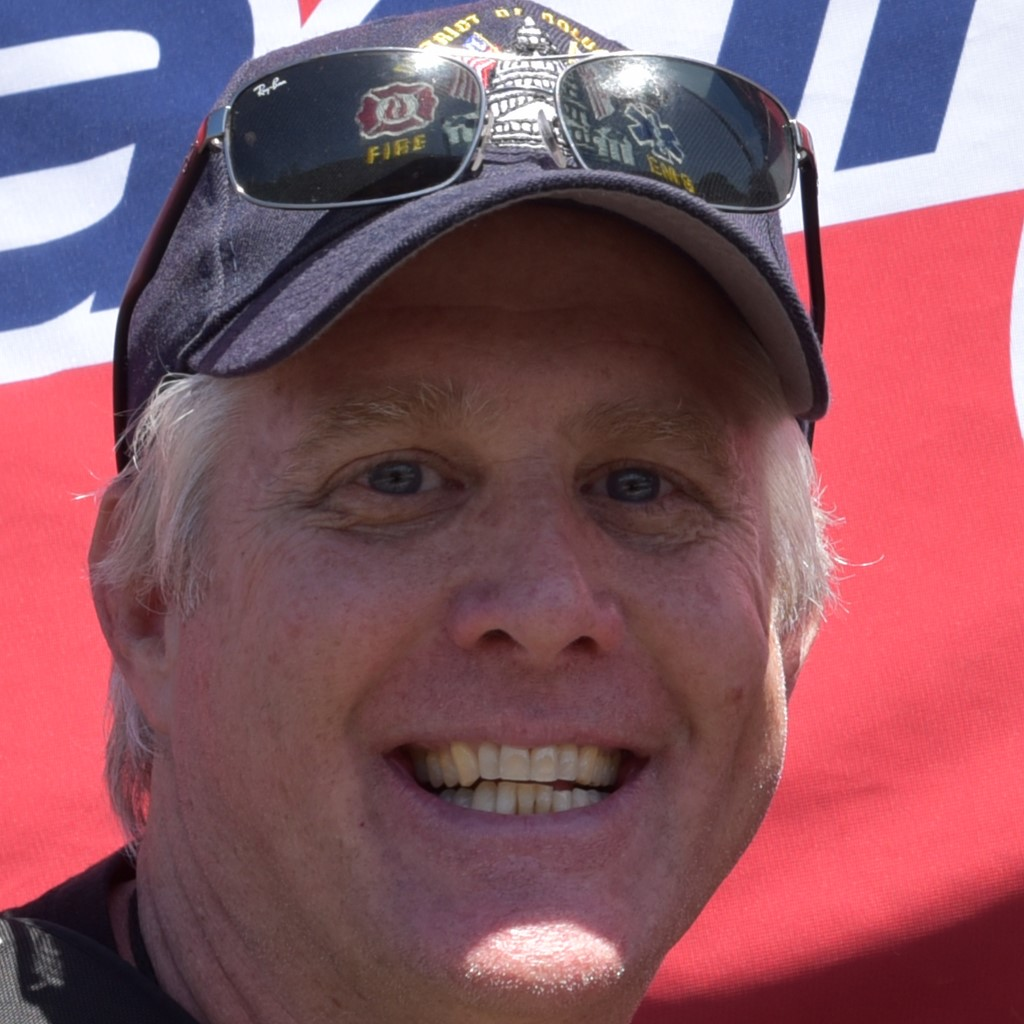sin_mascara: (177, 115, 796, 1015)
